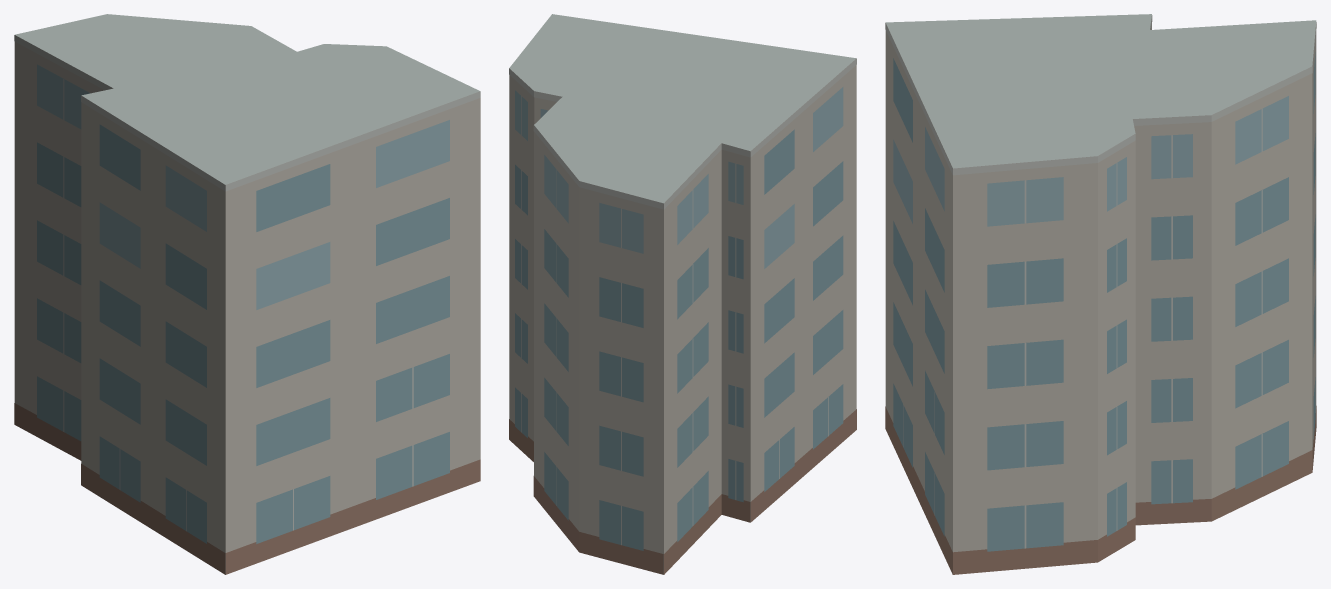
Rendered from survey-upis-32743292.glb.
3 views of the same model, side by side, from view 1: azimuth 30°, elevation 25°; view 2: azimuth 150°, elevation 25°; view 3: azimuth 270°, elevation 25° (orthographic). The views are drawn at different scales.
Parts seen in each view (by area): view 1: survey-upis-32743292.tmp; view 2: survey-upis-32743292.tmp; view 3: survey-upis-32743292.tmp.
Boxes of the visible parts, bbox=[...] form: survey-upis-32743292.tmp: bbox=[14, 14, 480, 574]; survey-upis-32743292.tmp: bbox=[509, 14, 856, 574]; survey-upis-32743292.tmp: bbox=[885, 14, 1316, 574].
Size of the model in its own units: 11.75 by 14.4 by 13.85.
